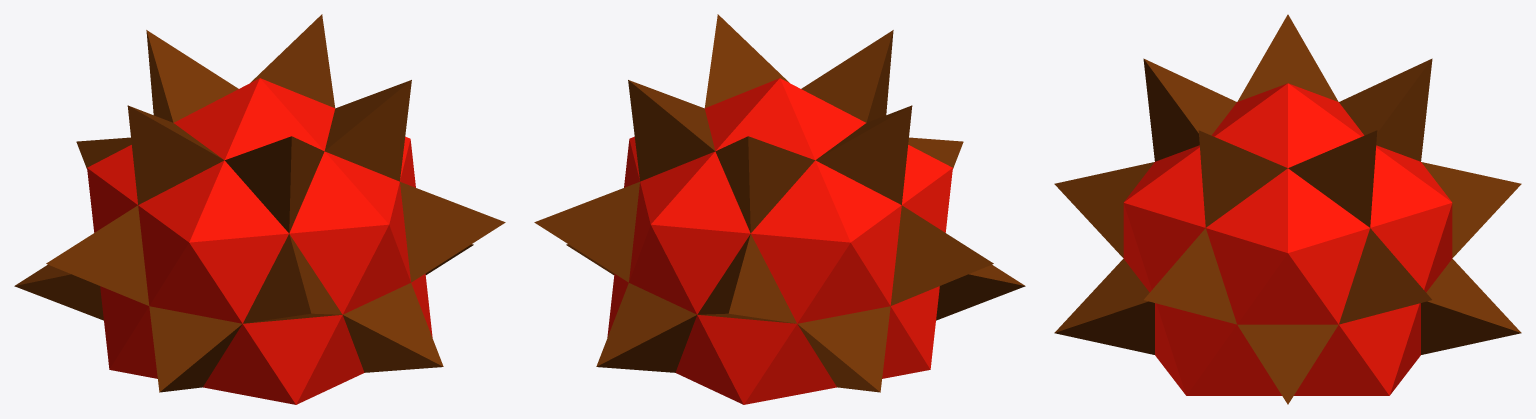
Rendered from bush_with_spikes2.fbx.
3 views of the same model, side by side, from view 1: azimuth 30°, elevation 25°; view 2: azimuth 150°, elevation 25°; view 3: azimuth 270°, elevation 25° (orthographic).
Parts seen in each view (by area): view 1: Icosphere; view 2: Icosphere; view 3: Icosphere.
Part boxes in pixels (box(x1,y1,x2,y2)): Icosphere: box(14, 14, 505, 404); Icosphere: box(534, 14, 1025, 404); Icosphere: box(1054, 14, 1521, 404).
Bounding box in the file's own units: 254 × 148 × 242.
